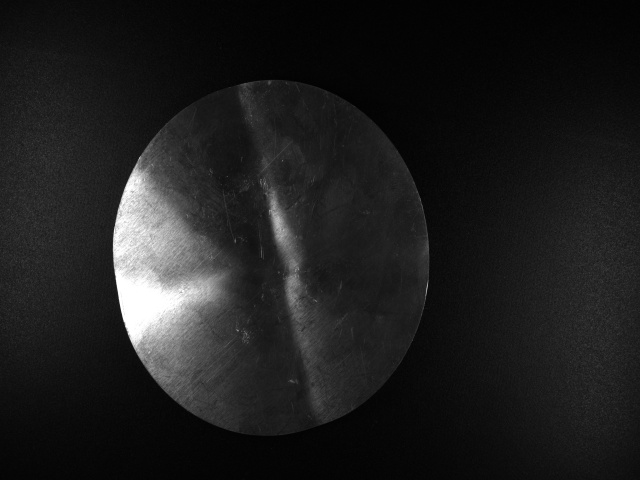zhe_zhou: (153, 137, 392, 379)
